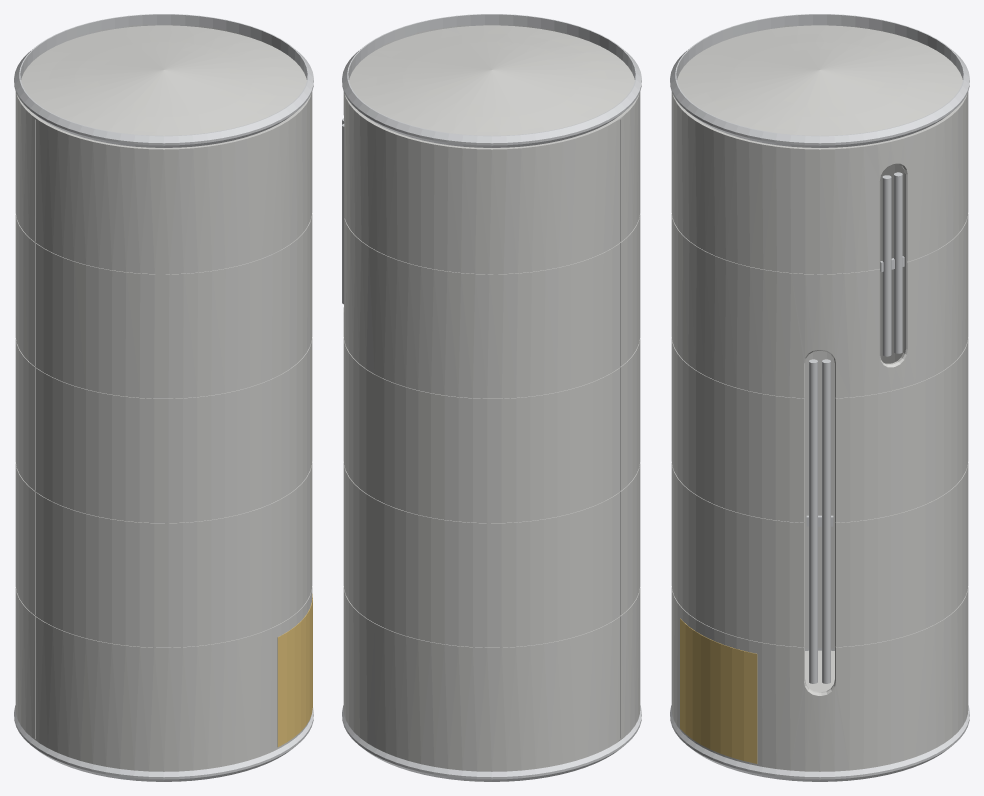
The model's file is ax_tank_01_modern_methalox_l_long.glb.
3 views of the same model, side by side, from view 1: azimuth 30°, elevation 25°; view 2: azimuth 150°, elevation 25°; view 3: azimuth 270°, elevation 25° (orthographic).
Parts seen in each view (by area): view 1: tank_barrel, dome_caps, end_rings, mli_patch; view 2: tank_barrel, dome_caps, end_rings, raceway_lines; view 3: tank_barrel, dome_caps, end_rings, raceway_lines, mli_patch.
Boxes of the visible parts, x1,y1,x2,y2 form: tank_barrel: (15, 92, 312, 771); dome_caps: (21, 24, 306, 135); end_rings: (14, 14, 313, 781); mli_patch: (277, 594, 312, 747); tank_barrel: (343, 92, 640, 771); dome_caps: (349, 24, 634, 135); end_rings: (342, 14, 641, 781); raceway_lines: (342, 118, 344, 304); tank_barrel: (671, 92, 968, 771); dome_caps: (677, 24, 962, 691); end_rings: (670, 14, 969, 781); raceway_lines: (806, 172, 904, 683); mli_patch: (680, 618, 757, 763).
Bounding box in the file's own units: 3.79 × 9.15 × 3.79.
